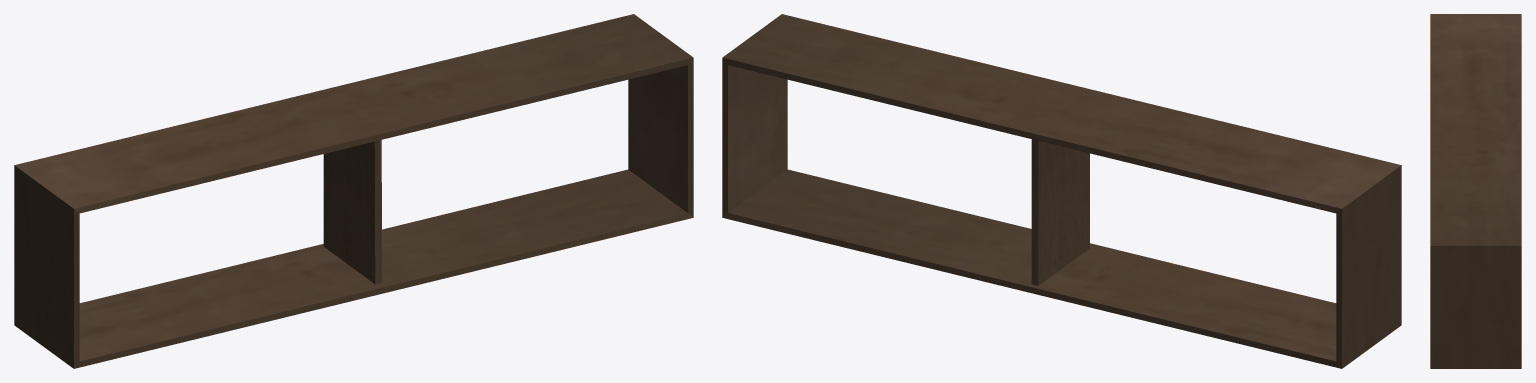
File: bookshelf_3.fbx
The picture shows the model from 3 angles, left to right: view 1: azimuth 30°, elevation 25°; view 2: azimuth 150°, elevation 25°; view 3: azimuth 270°, elevation 25°; orthographic projection. The views are drawn at different scales.
Visible parts, largest first — view 1: polySurface1120; view 2: polySurface1120; view 3: polySurface1120.
Part boxes in pixels (x1,y1,x2,y2): polySurface1120: (14,14,693,368); polySurface1120: (722,14,1401,368); polySurface1120: (1430,14,1521,368).
Bounding box in the file's own units: 165 × 40.75 × 27.5.
1 material, 1 textured.
